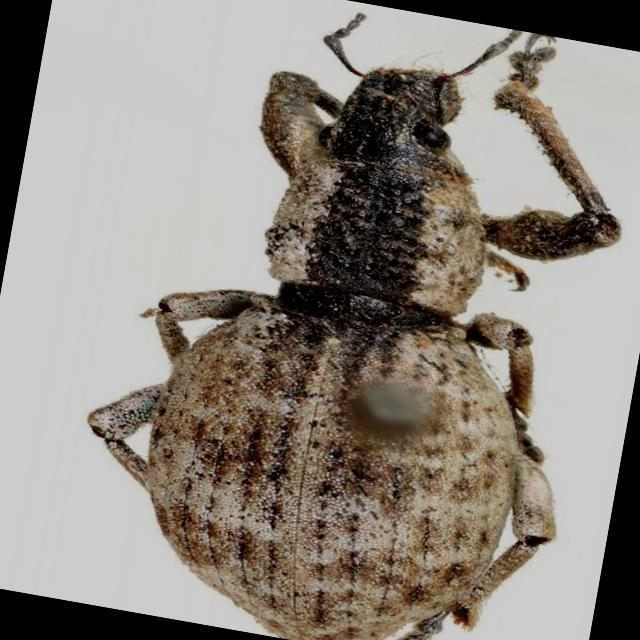ricebug: (89, 68, 619, 639)
